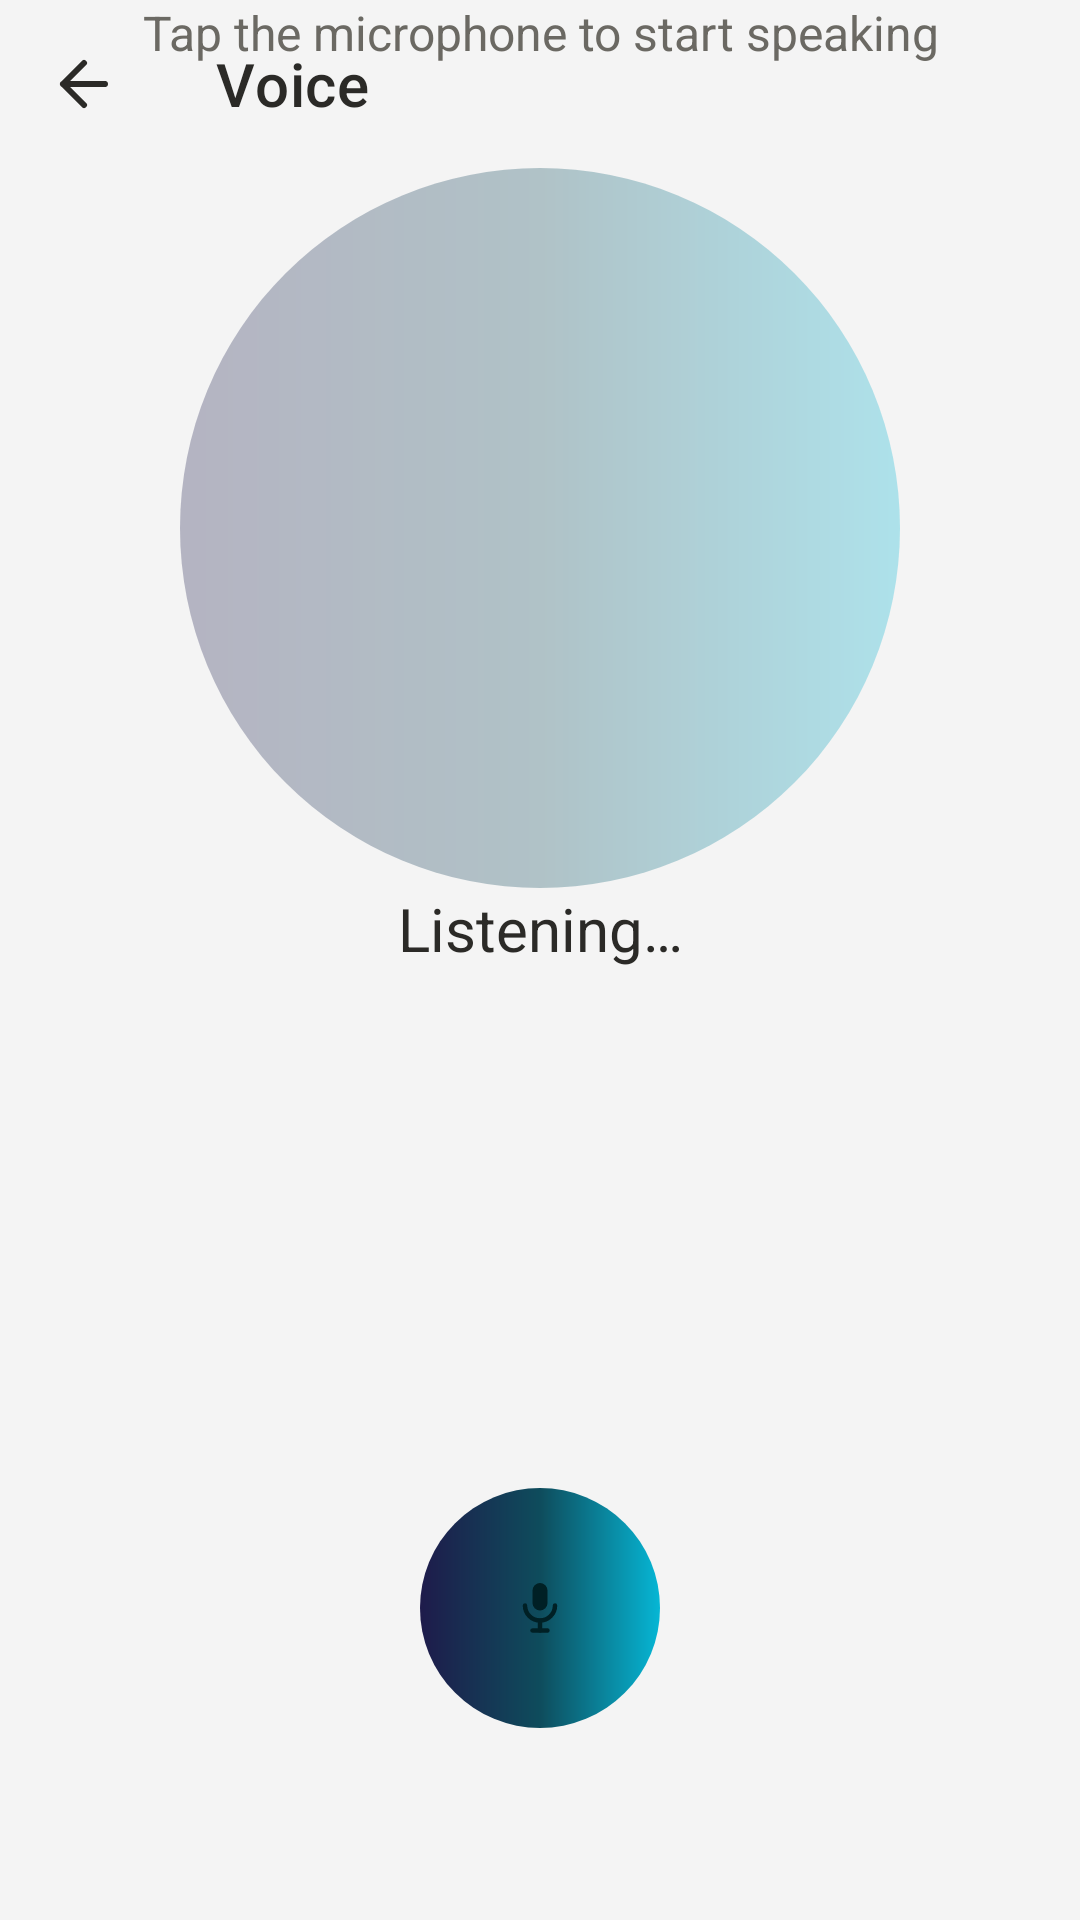

Where to tap for icons on this 1080x1920 app screen, as (x=x, y=y):
Start or stop voice input: (x=540, y=1608)
